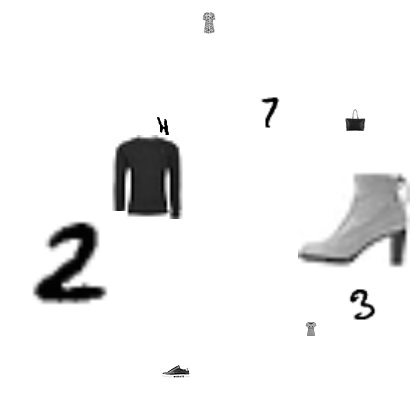2: (14, 211, 126, 323)
3: (340, 282, 382, 324)
4: (149, 112, 177, 140)
7: (249, 87, 291, 129)
Ankle_boot: (298, 162, 410, 274)
Bag: (344, 109, 366, 131)
Dress: (198, 12, 220, 34)
Pullover: (104, 135, 188, 219)
Sneaker: (162, 357, 190, 385)
T-shirt/top: (304, 322, 318, 336)
